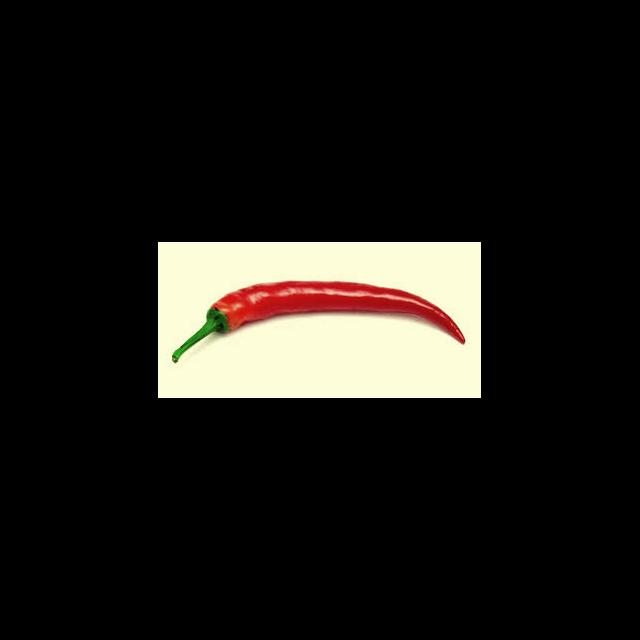chili_pepper: (186, 279, 464, 335)
